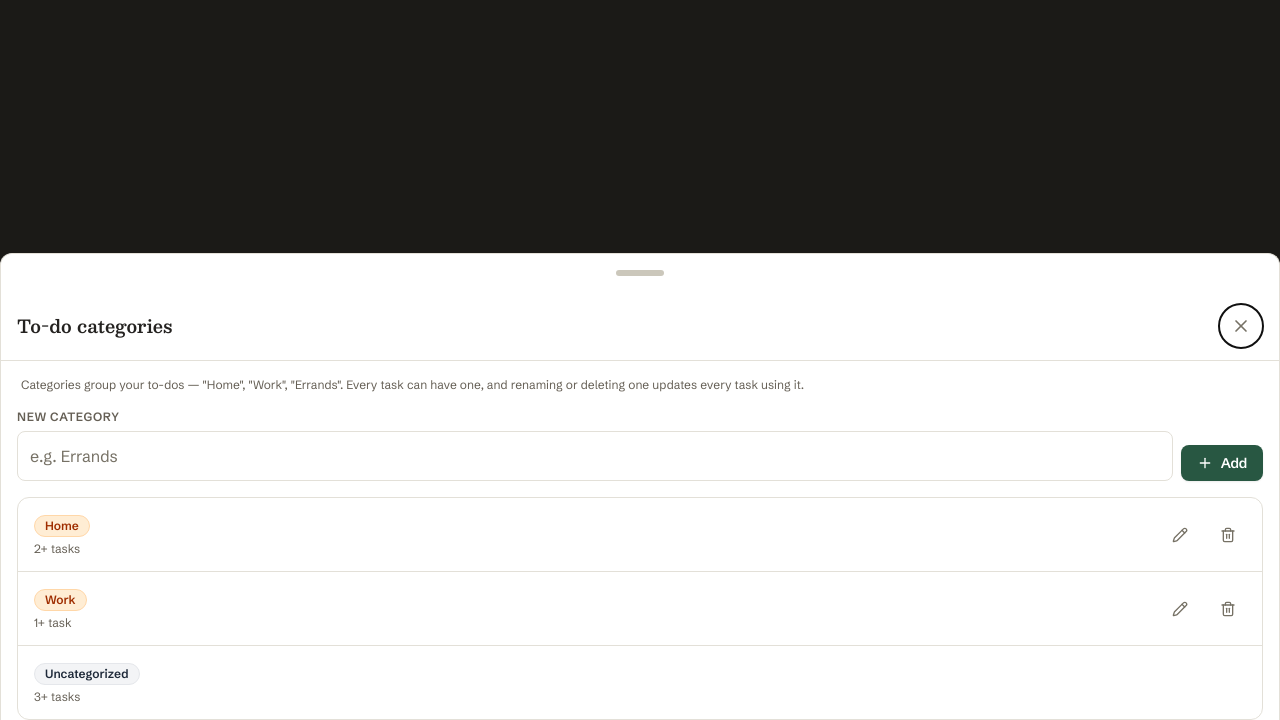
TodoCategoryManagerDrawer › cancelling the delete confirmation performs no write
Click the button named "Delete Work". click: (1228, 608)
box: [1210,590,1246,626]
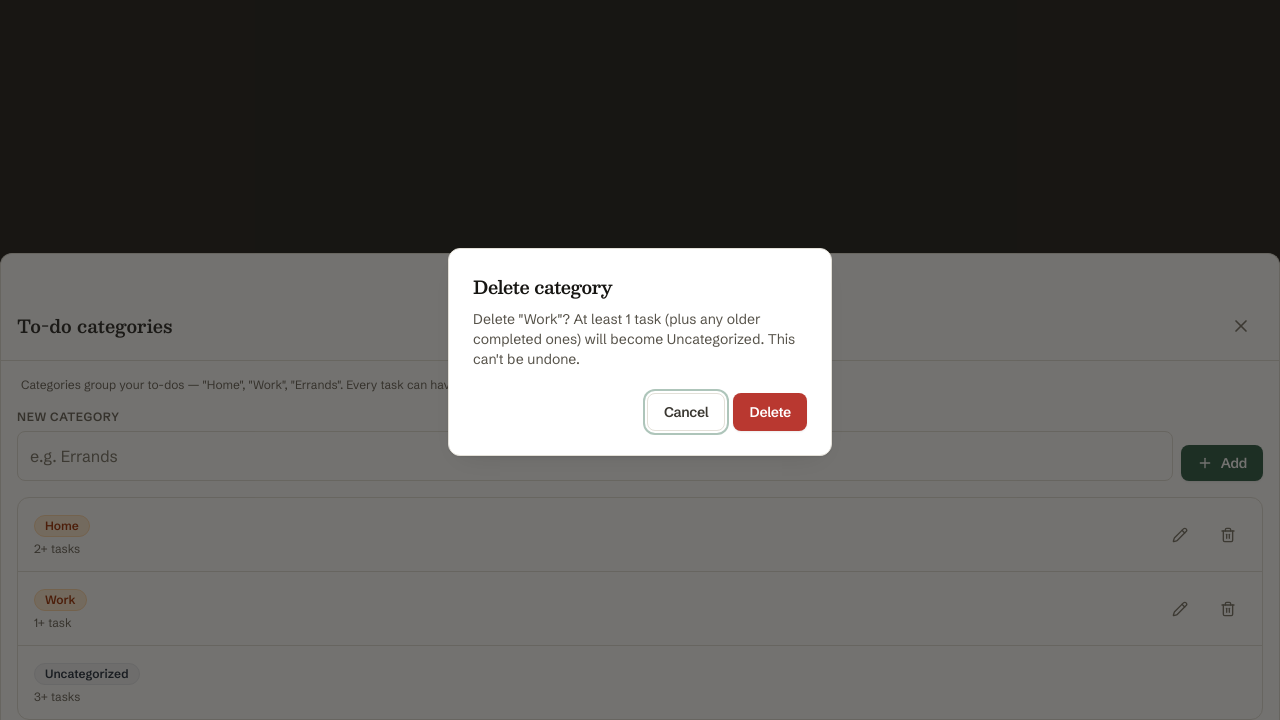
Click the button "Cancel". click: (686, 412)
box: [647,393,726,431]
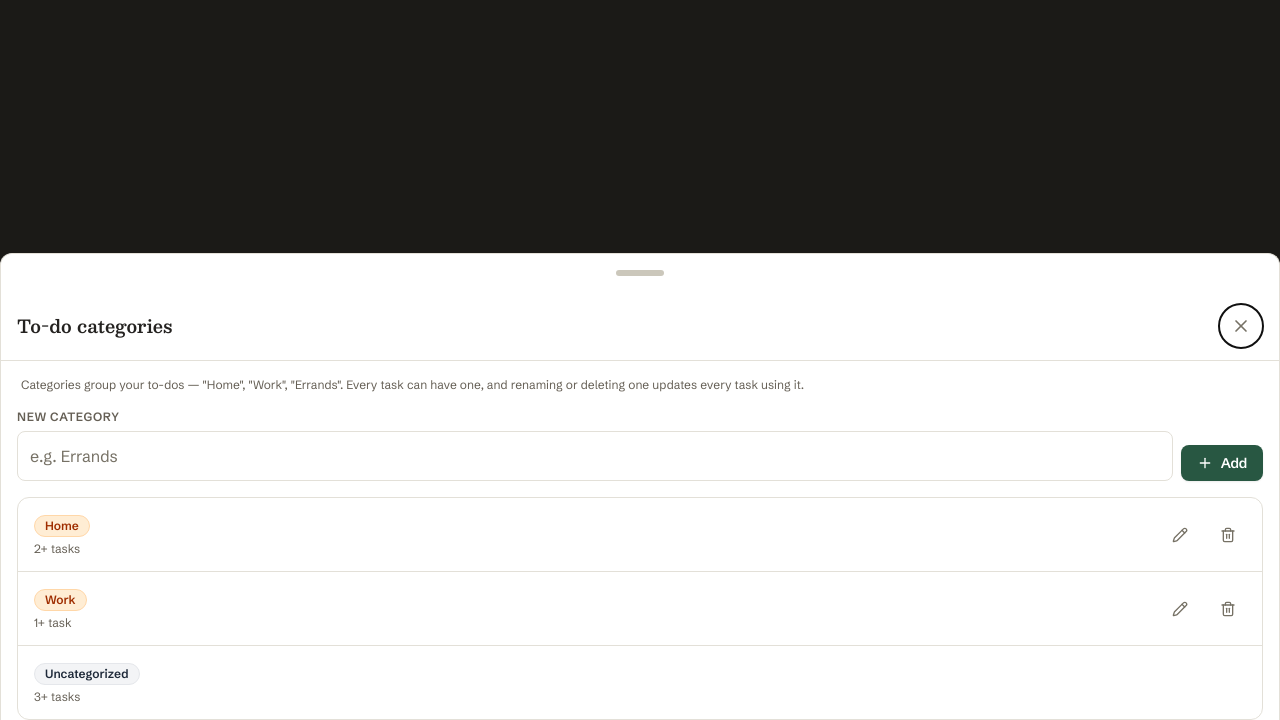
Expected: the text "will become Uncategorized" is gone
